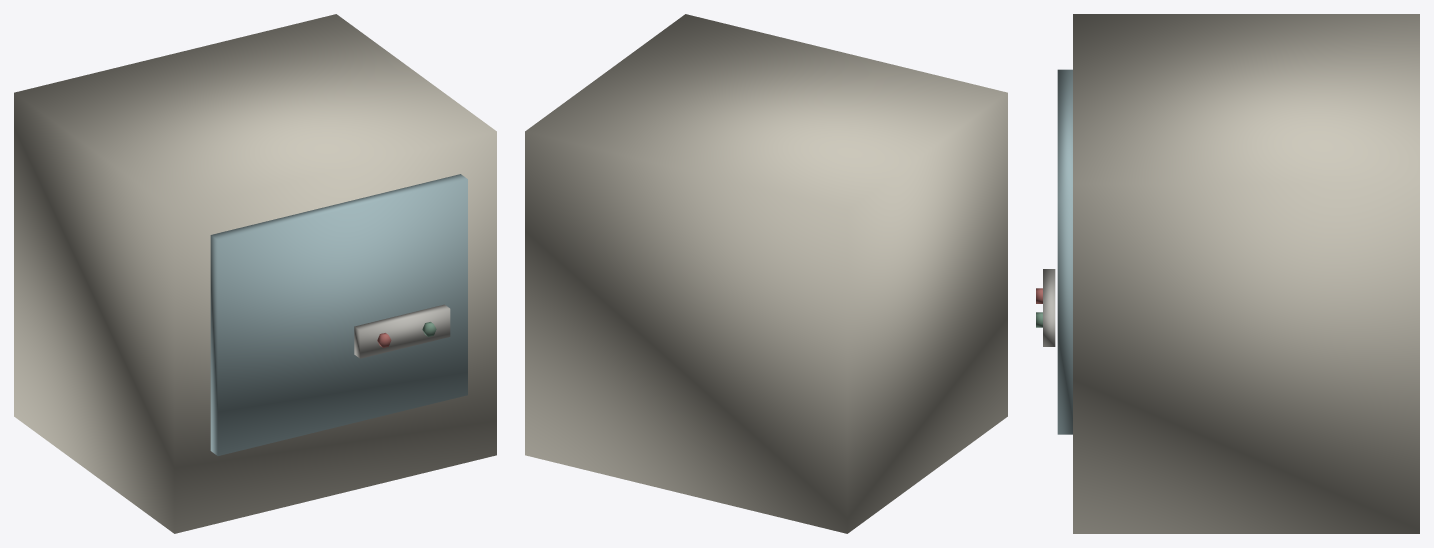
File: crt_monitor__tall.glb
3 renders of one model, left to right at view 1: azimuth 30°, elevation 25°; view 2: azimuth 150°, elevation 25°; view 3: azimuth 270°, elevation 25°, orthographic. The views are drawn at different scales.
Parts seen in each view (by area): view 1: world; view 2: world; view 3: world.
Part boxes in pixels (x1,y1,x2,y2): world: (14, 14, 496, 533); world: (525, 14, 1007, 533); world: (1036, 14, 1419, 533).
Size of the model in its own units: 0.58 by 0.6032 by 0.5535.
